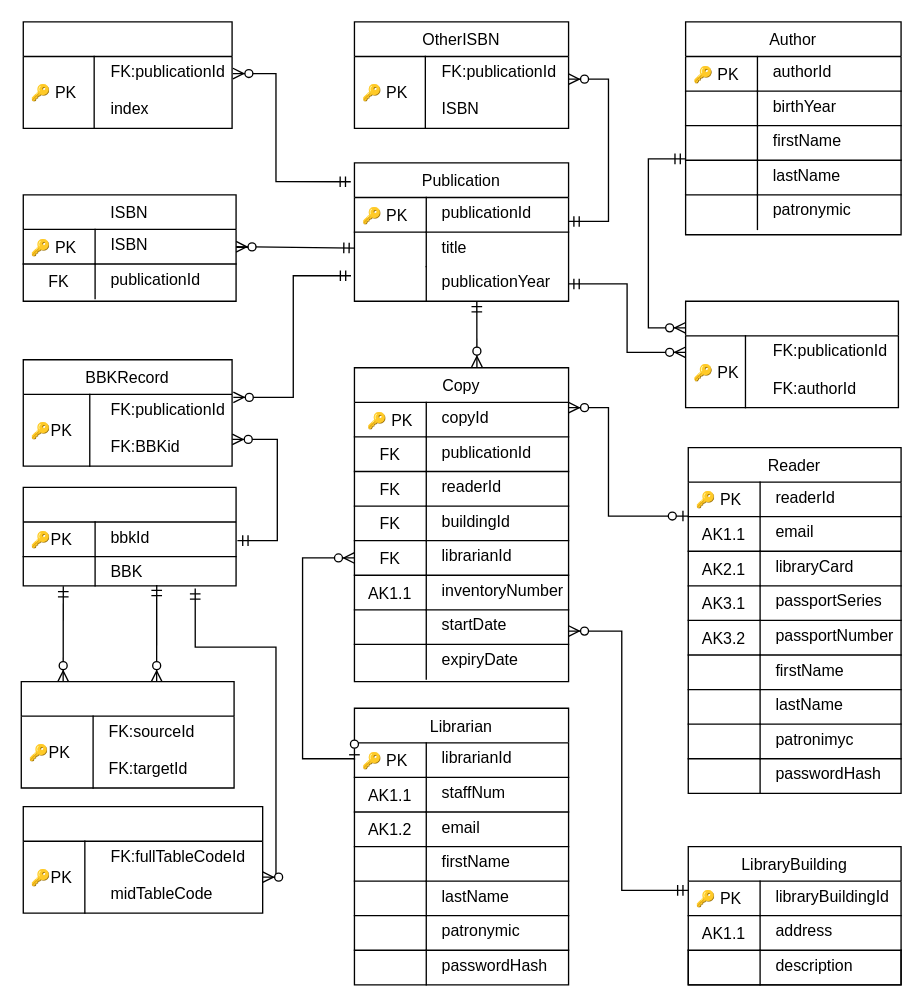
The diagram is 923 pixels wide and 1007 high, and some of its shapes have lost their labels. The shapes that lost their labels are listed below. From the top down, each one's box as (x1, y1, x2, y2) in pixels, then its label:
(22, 21, 232, 128): OtherIndex
(684, 300, 898, 408): BookAuthor
(22, 486, 236, 557): BBKDictionary
(20, 680, 234, 788): BBKAlternative
(22, 805, 263, 913): BBKMapping
